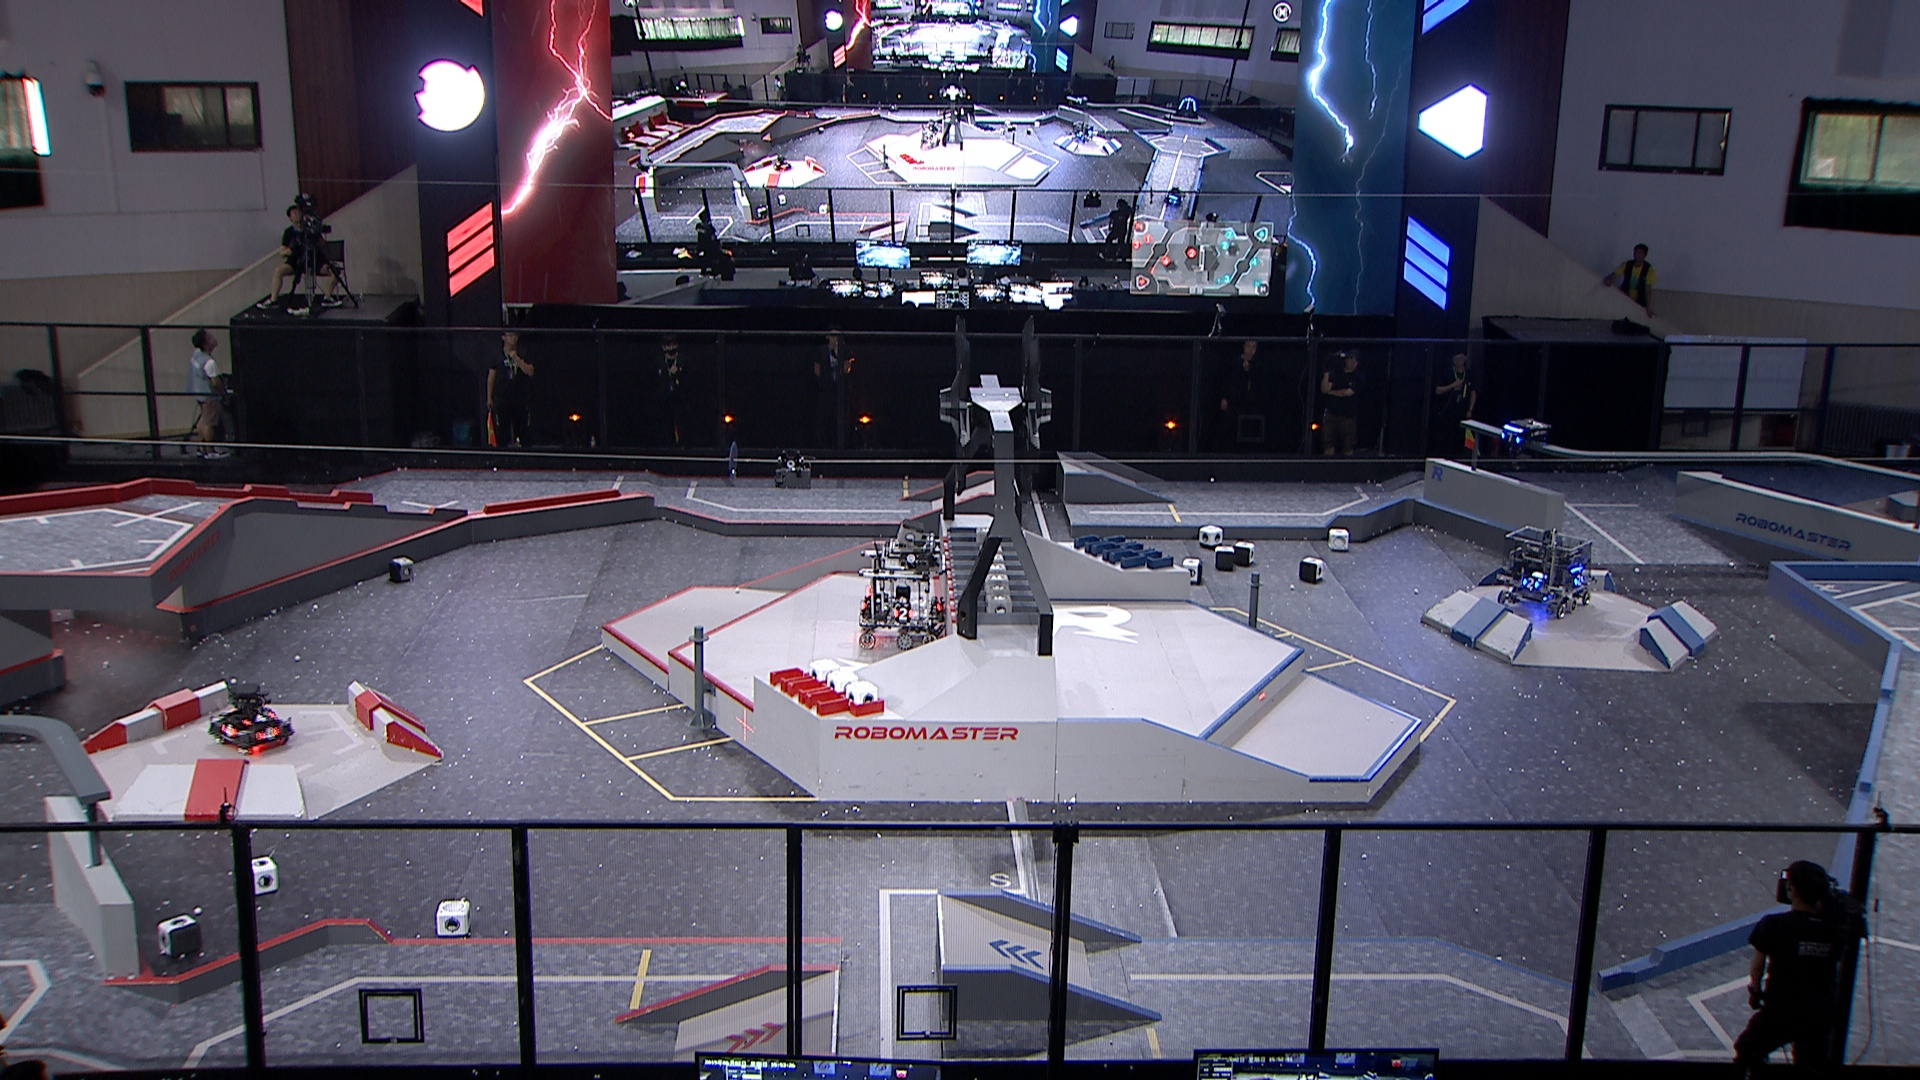armor: (239, 709, 277, 727), (251, 721, 281, 740), (218, 719, 239, 741), (891, 605, 916, 622), (1499, 429, 1523, 446), (1571, 570, 1588, 589), (1522, 574, 1539, 593)
car: (847, 535, 945, 651), (1494, 522, 1596, 621), (207, 680, 301, 760)
ignore: (920, 117, 945, 149), (1174, 95, 1201, 119), (1068, 120, 1096, 142), (1163, 186, 1187, 208), (773, 150, 793, 171), (632, 156, 654, 174)
watcher: (1495, 407, 1557, 469)
